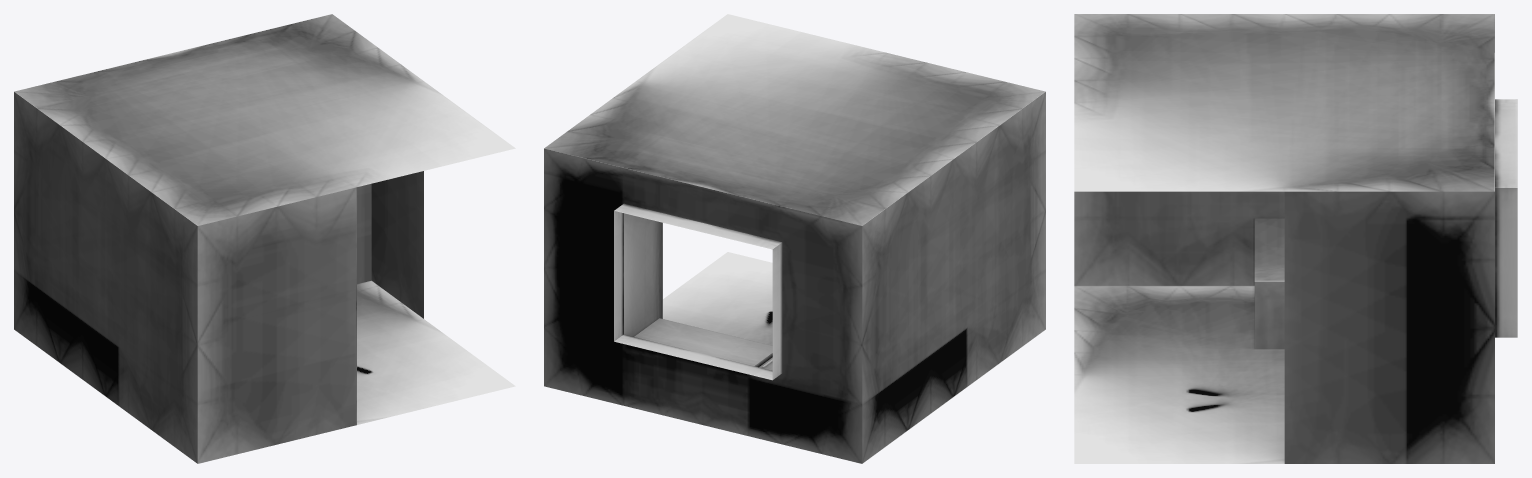
File: test_3Dscene01.fbx
3 renders of one model, left to right at view 1: azimuth 30°, elevation 25°; view 2: azimuth 150°, elevation 25°; view 3: azimuth 270°, elevation 25°, orthographic. The views are drawn at different scales.
Visible parts, largest first — view 1: pCube12; view 2: pCube12; view 3: pCube12.
Part boxes in pixels (bbox=[...]): pCube12: bbox=[14, 14, 515, 463]; pCube12: bbox=[544, 14, 1045, 463]; pCube12: bbox=[1074, 14, 1517, 463].
Bounding box in the file's own units: 3.5 × 2.5 × 3.69.
1 material, 1 textured.
